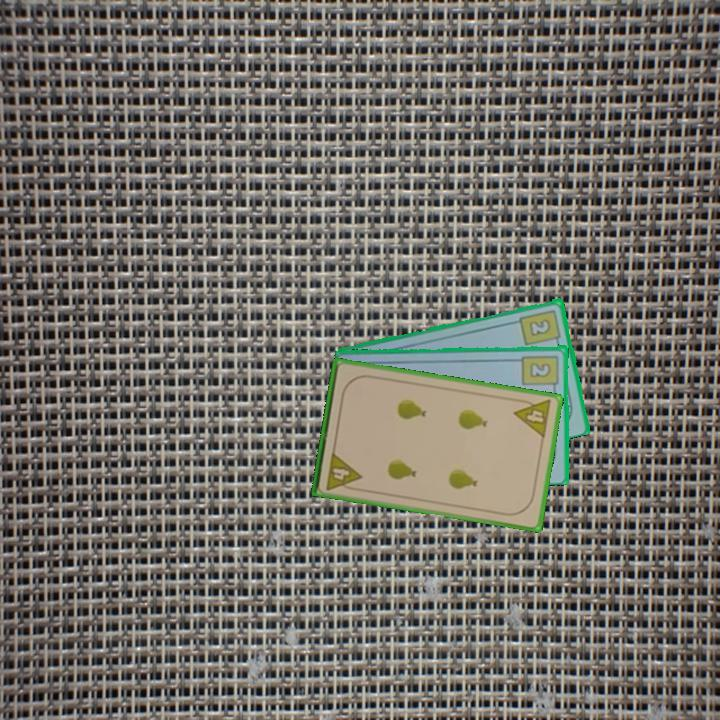2b: (517, 306, 564, 348), (519, 352, 562, 393)
4p: (511, 395, 554, 441), (322, 448, 364, 493)
